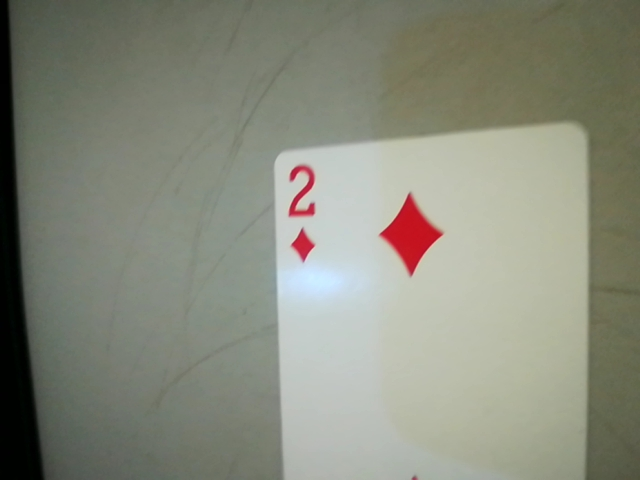fk 2: (271, 155, 334, 270)
